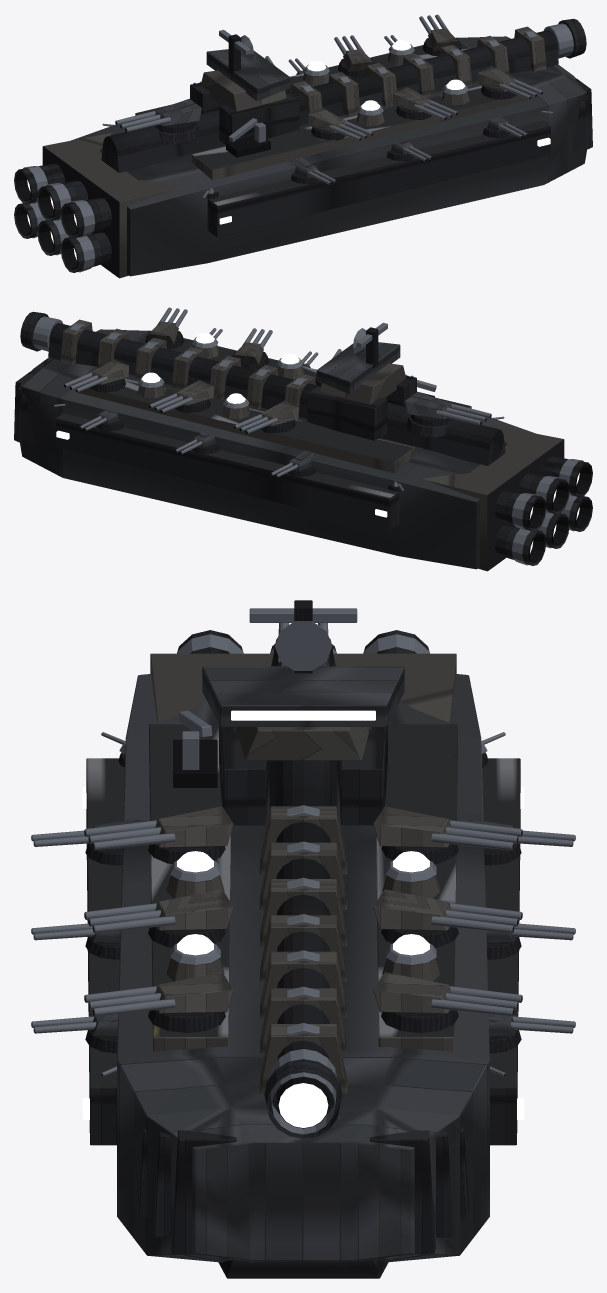
The model's file is battleship.glb.
3 views of the same model, one above another, from view 1: azimuth 30°, elevation 25°; view 2: azimuth 150°, elevation 25°; view 3: azimuth 270°, elevation 25° (orthographic). The views are drawn at different scales.
Visible parts, largest first — view 1: battleship; view 2: battleship; view 3: battleship.
Part boxes in pixels (x1,y1,x2,y2): battleship: [14, 14, 592, 278]; battleship: [14, 307, 592, 571]; battleship: [31, 600, 575, 1278].
Bounding box in the file's own units: 60 × 19.71 × 26.64.
Materials: 1 (1 with a texture image).
